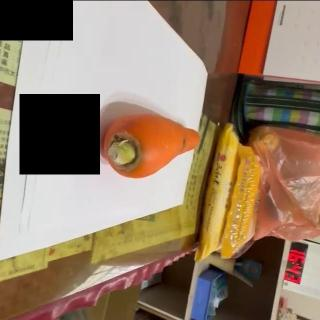carrot: (99, 111, 201, 181)
